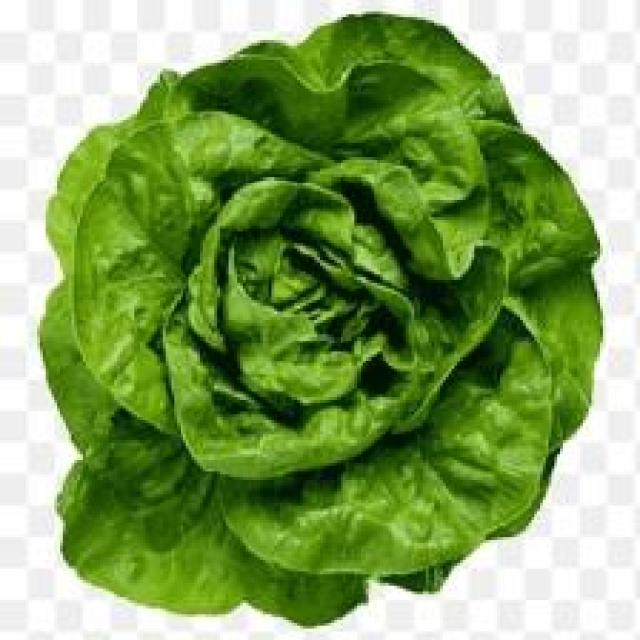Lettuce: (41, 9, 611, 625)
